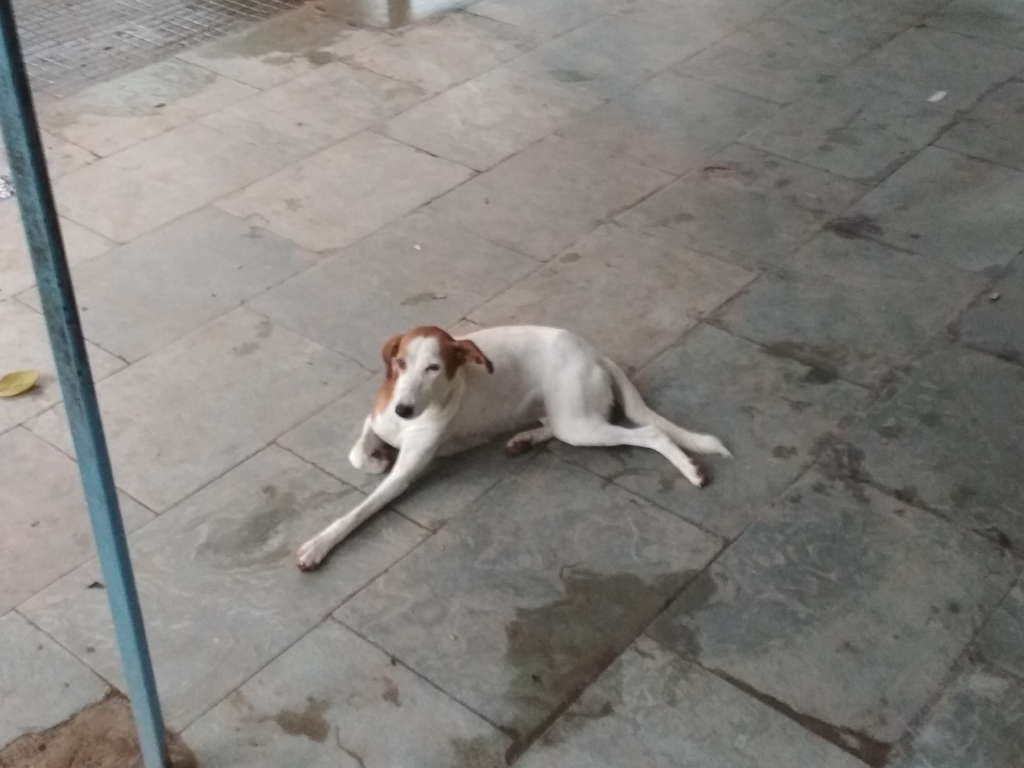dog: (298, 325, 733, 572)
